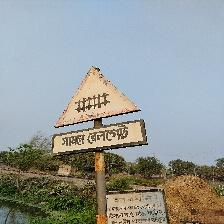Rail-crossing: (52, 66, 146, 155)
